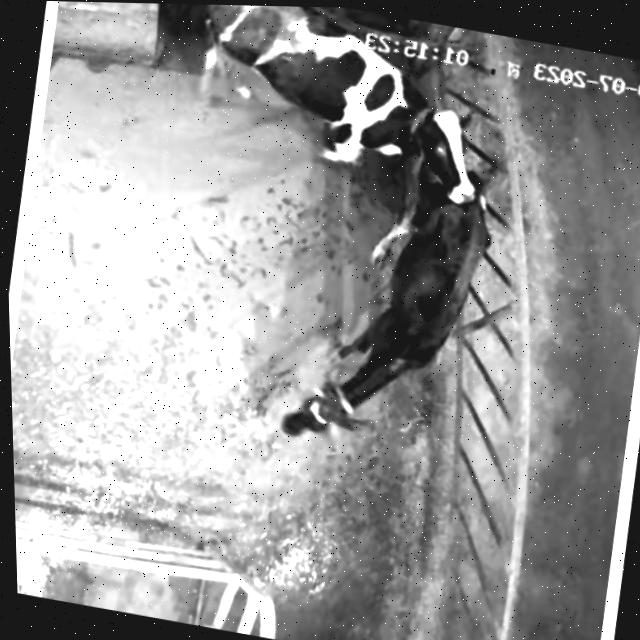propping: (369, 74, 519, 250)
